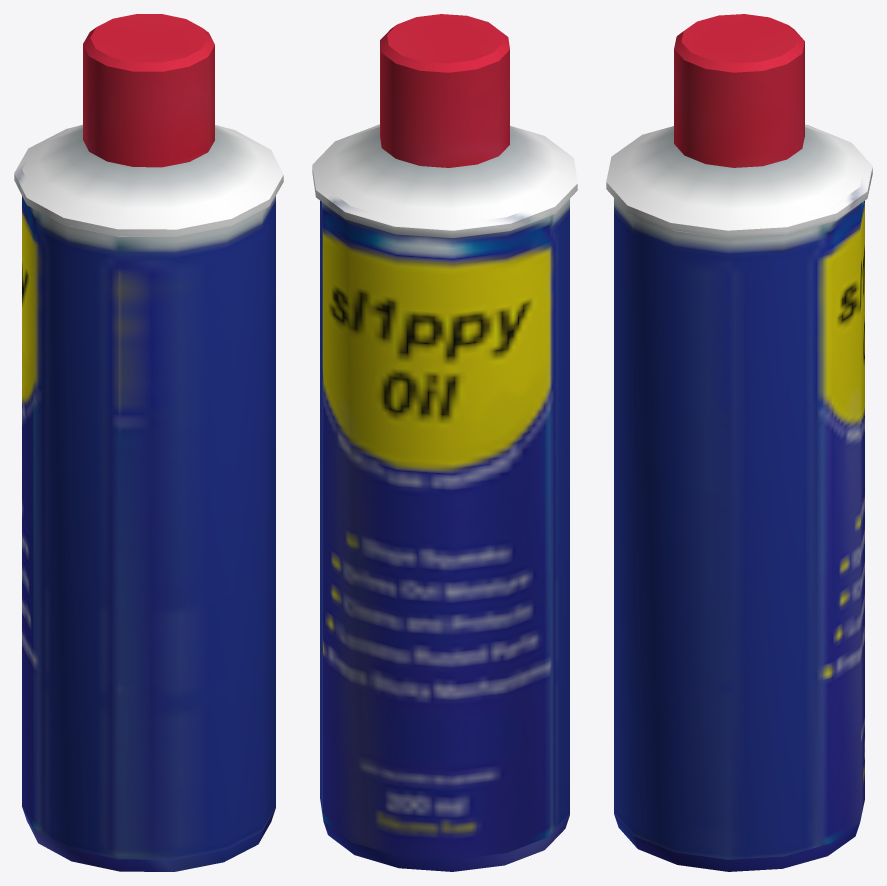
The model's file is spray.fbx.
3 renders of one model, left to right at view 1: azimuth 30°, elevation 25°; view 2: azimuth 150°, elevation 25°; view 3: azimuth 270°, elevation 25°, orthographic.
Visible parts, largest first — view 1: spray; view 2: spray; view 3: spray.
Boxes of the visible parts, x1,y1,x2,y2 form: spray: [14, 14, 283, 871]; spray: [312, 14, 577, 871]; spray: [606, 14, 872, 871].
Size of the model in its own units: 0.0888 by 0.2858 by 0.0883.
